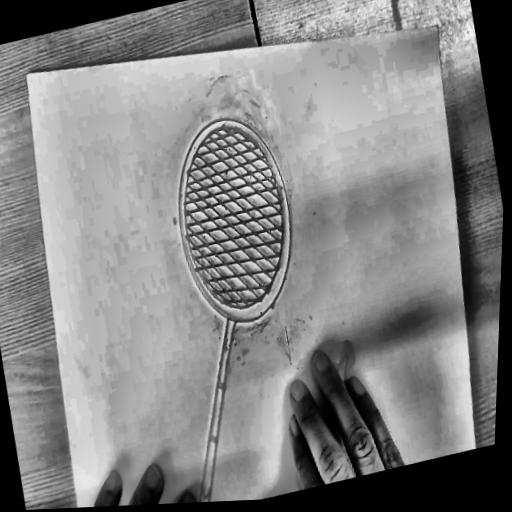badminton: (134, 99, 376, 508)
top_left: (24, 70, 31, 80)
top_right: (432, 19, 443, 32)
